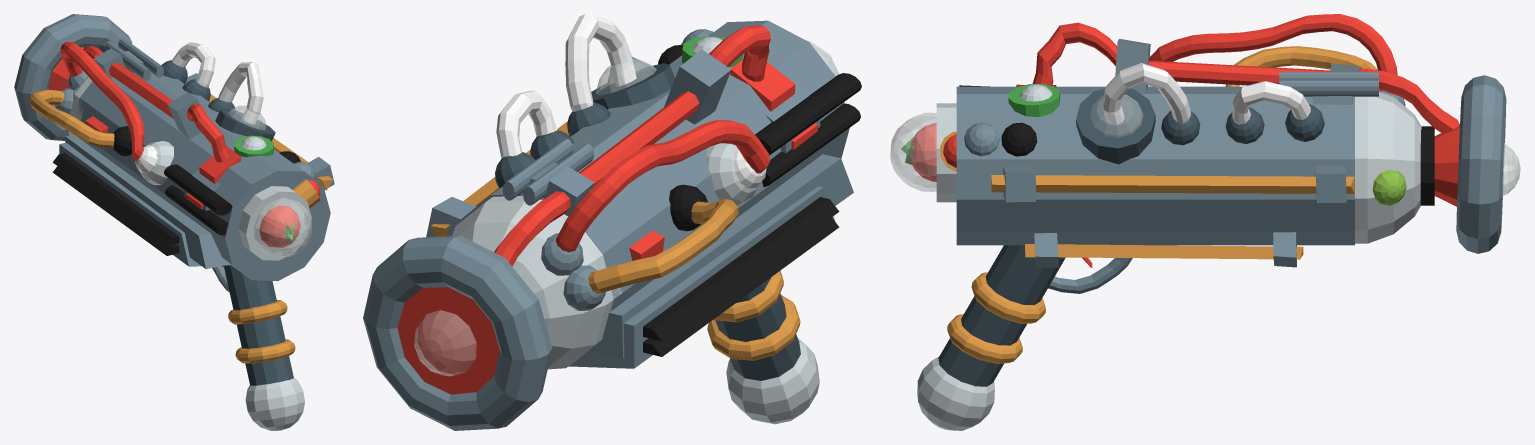
The picture shows the model from 3 angles, left to right: view 1: azimuth 30°, elevation 25°; view 2: azimuth 150°, elevation 25°; view 3: azimuth 270°, elevation 25°; orthographic projection. The views are drawn at different scales.
Visible parts, largest first — view 1: group1076175271, group1361391660, group1519233596, group1504437440, group1591689974, group1745338368, group1012879, group1583859191, group782664864, group489088275, group484274957, group1945881661 (+26 smaller); view 2: group1361391660, group1076175271, group620999085, group1162283701, group1504437440, group782664864, group1583859191, group484274957, group489088275, group1012879, group1945881661, group1519233596 (+27 smaller); view 3: group1076175271, group620999085, group1361391660, group905564538, group1519233596, group782664864, group869030446, group304389100, group1012879, group1745338368, group1945881661, group647767145 (+22 smaller).
Boxes of the visible parts, <box> form: group1076175271: <box>77,72,330,281</box>; group1361391660: <box>14,14,131,140</box>; group1519233596: <box>224,265,293,385</box>; group1504437440: <box>65,134,229,269</box>; group1591689974: <box>238,186,311,260</box>; group1745338368: <box>254,198,312,256</box>; group1012879: <box>245,378,304,430</box>; group1583859191: <box>164,164,232,235</box>; group782664864: <box>60,42,144,161</box>; group489088275: <box>29,90,114,148</box>; group484274957: <box>59,142,230,266</box>; group1945881661: <box>218,62,263,124</box>; group1361391660: <box>363,235,552,430</box>; group1076175271: <box>460,20,849,363</box>; group620999085: <box>452,195,622,369</box>; group1162283701: <box>397,287,499,394</box>; group1504437440: <box>588,154,853,358</box>; group782664864: <box>555,120,769,252</box>; group1583859191: <box>755,73,861,187</box>; group484274957: <box>568,186,834,368</box>; group489088275: <box>588,199,738,293</box>; group1012879: <box>726,338,819,424</box>; group1945881661: <box>565,14,636,111</box>; group1519233596: <box>715,277,800,380</box>; group1076175271: <box>956,86,1354,245</box>; group620999085: <box>1355,91,1421,243</box>; group1361391660: <box>1456,75,1506,253</box>; group905564538: <box>991,165,1354,203</box>; group1519233596: <box>938,245,1065,386</box>; group782664864: <box>1149,14,1397,75</box>; group869030446: <box>1025,232,1303,267</box>; group304389100: <box>1076,88,1155,164</box>; group1012879: <box>917,356,994,430</box>; group1745338368: <box>890,112,936,191</box>; group1945881661: <box>1102,63,1190,124</box>; group647767145: <box>1279,72,1378,104</box>.
Size of the model in its own units: 0.133 by 0.2185 by 0.3166.
